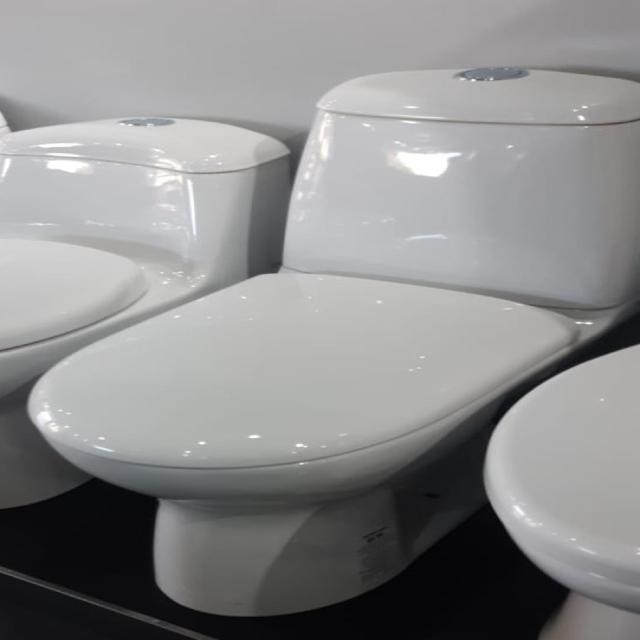toilet: (25, 65, 638, 617), (0, 115, 291, 509), (481, 343, 639, 639)
